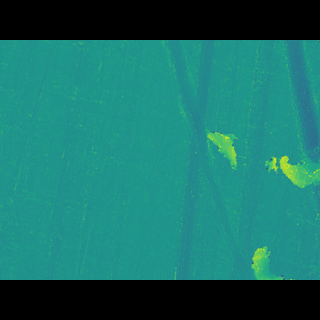Loch: (157, 68, 258, 250), (277, 69, 319, 160), (262, 151, 320, 183), (198, 135, 243, 170), (239, 223, 294, 251)
